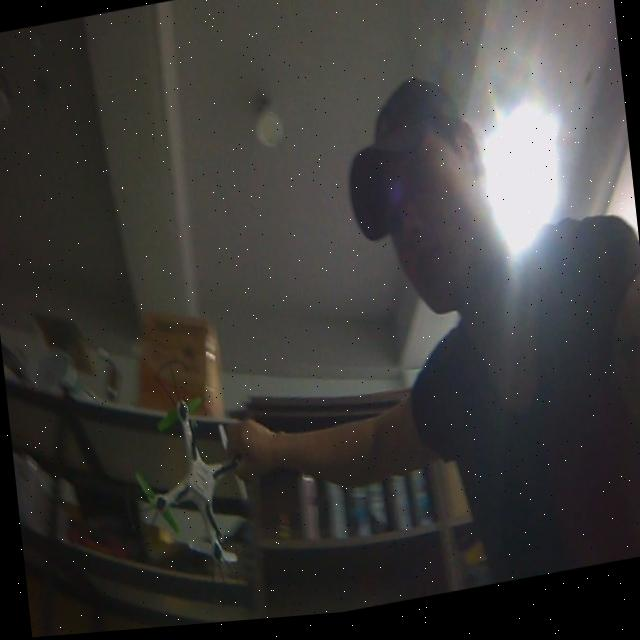drone: (109, 342, 288, 625)
